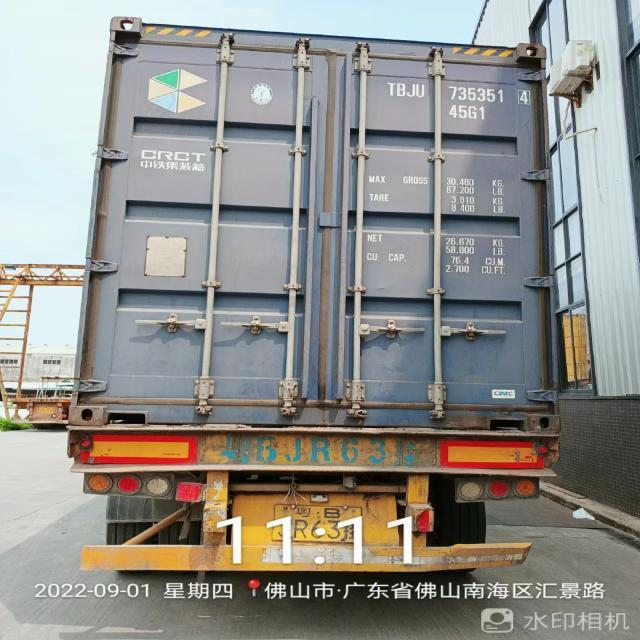ISO: (448, 104, 489, 122)
container_number: (386, 78, 540, 103)
